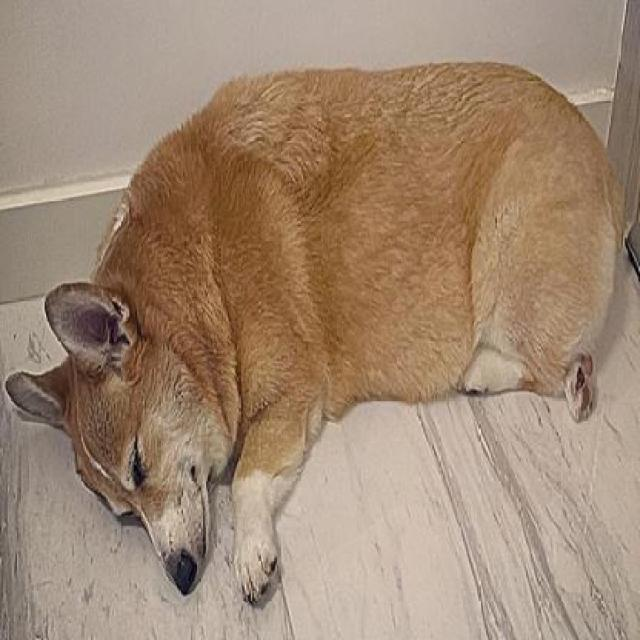Dog: (0, 58, 625, 617)
